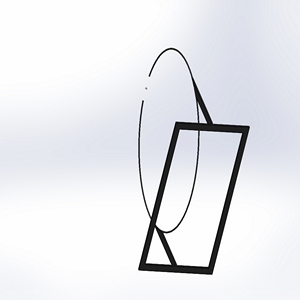circle: (134, 44, 250, 278)
